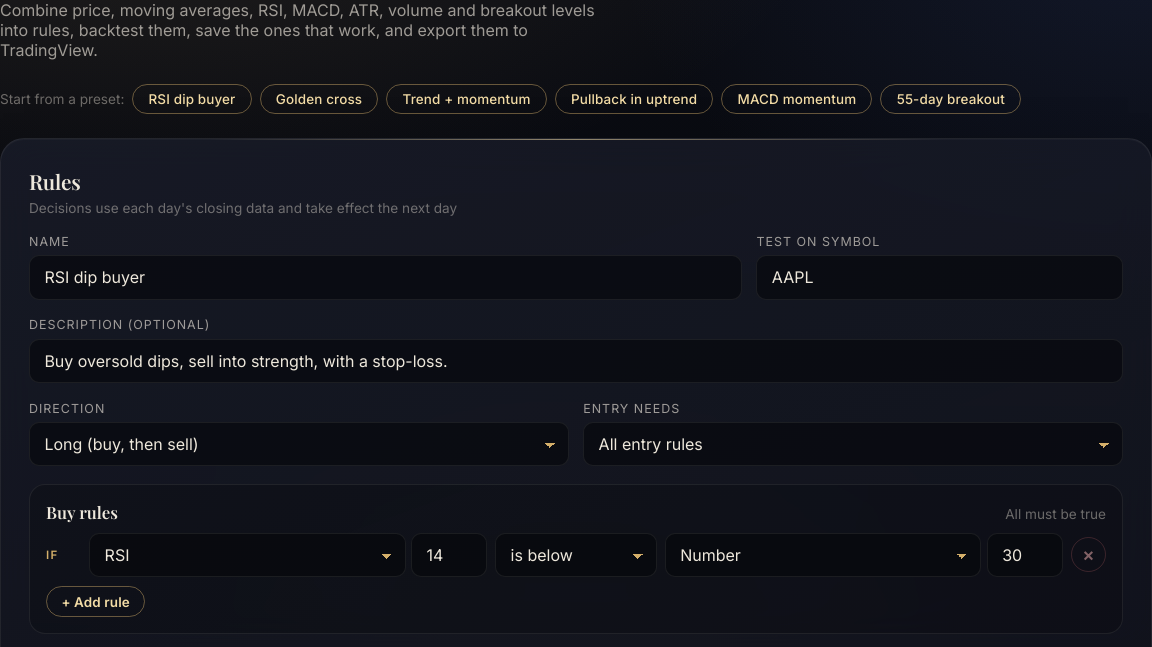
Test: StrategyBuilder upgrades › describes short rules with trailing and time exits, and exports Pine Script
The width and height of the screenshot is (1152, 647).
Select "Any one entry rule" in the dropdown labelled "Entry needs" at x=853, y=444, box [583,422,1123,466]
(page scrolled)
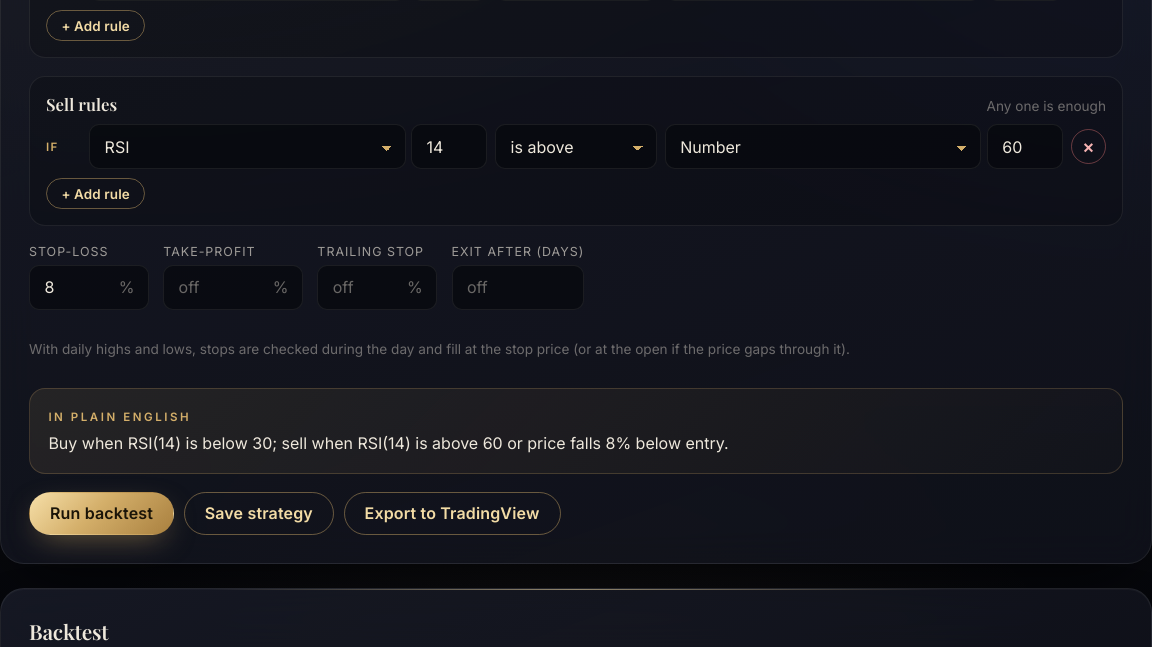
Type "8" into the number field labelled "Trailing stop %" at x=377, y=287, box [317,265,437,310]
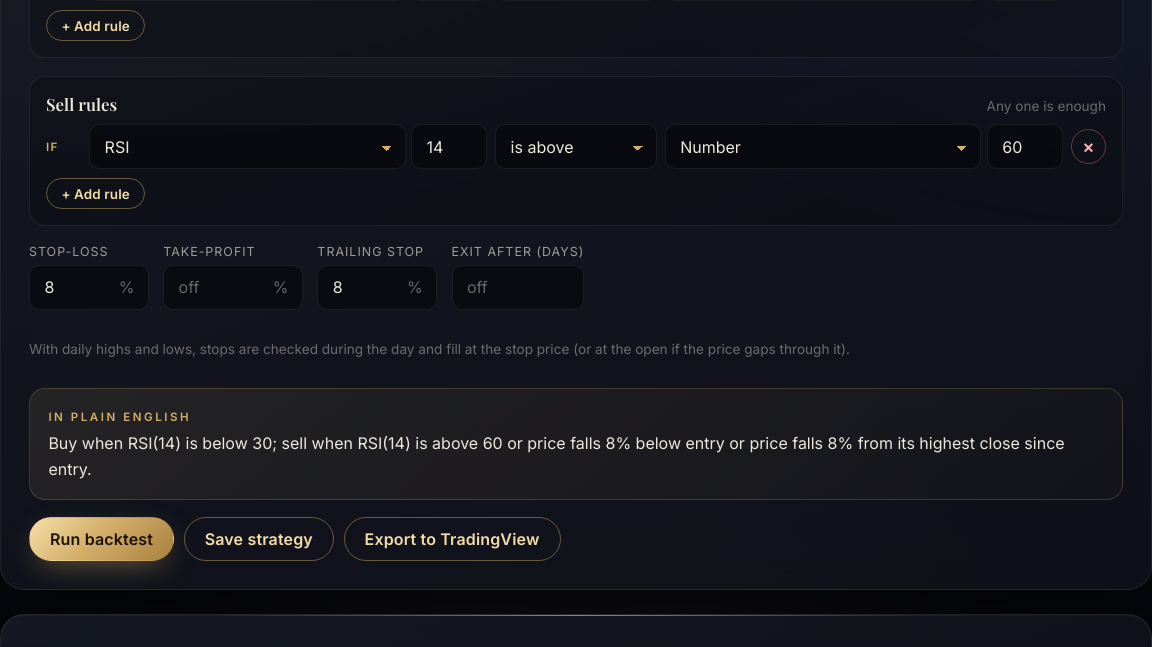
Click the button "Export to TradingView" at x=452, y=539, box [344,517,560,561]
(page scrolled)
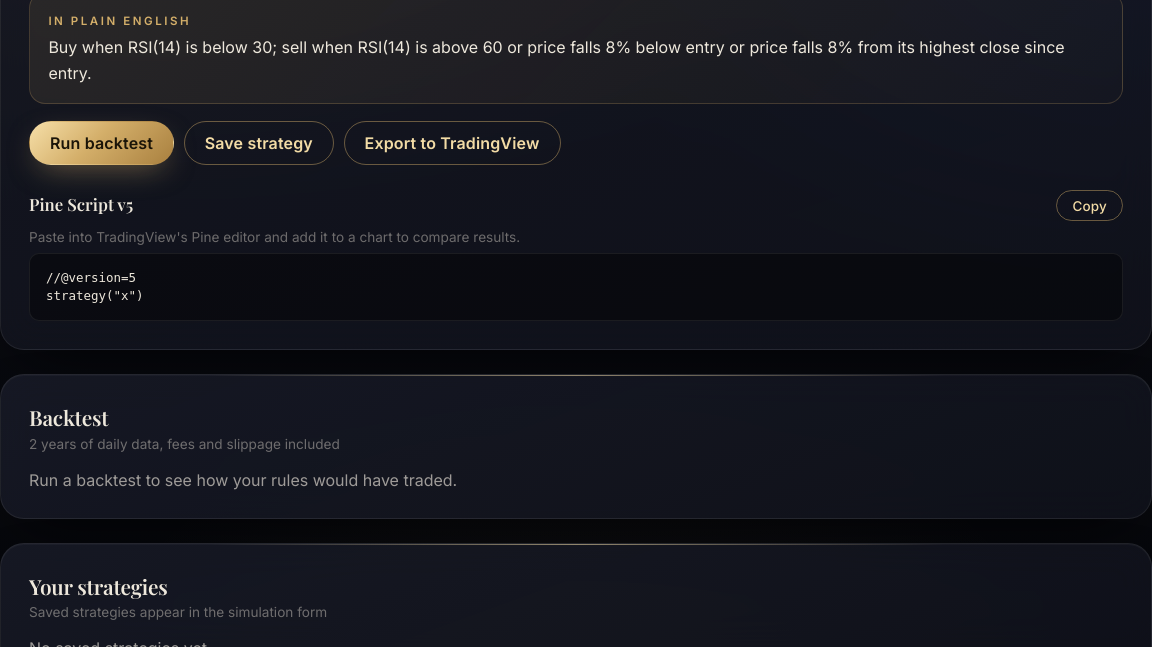
Expected: the text named "Pine Script" shows "//@version=5", [46,270,144,303]
